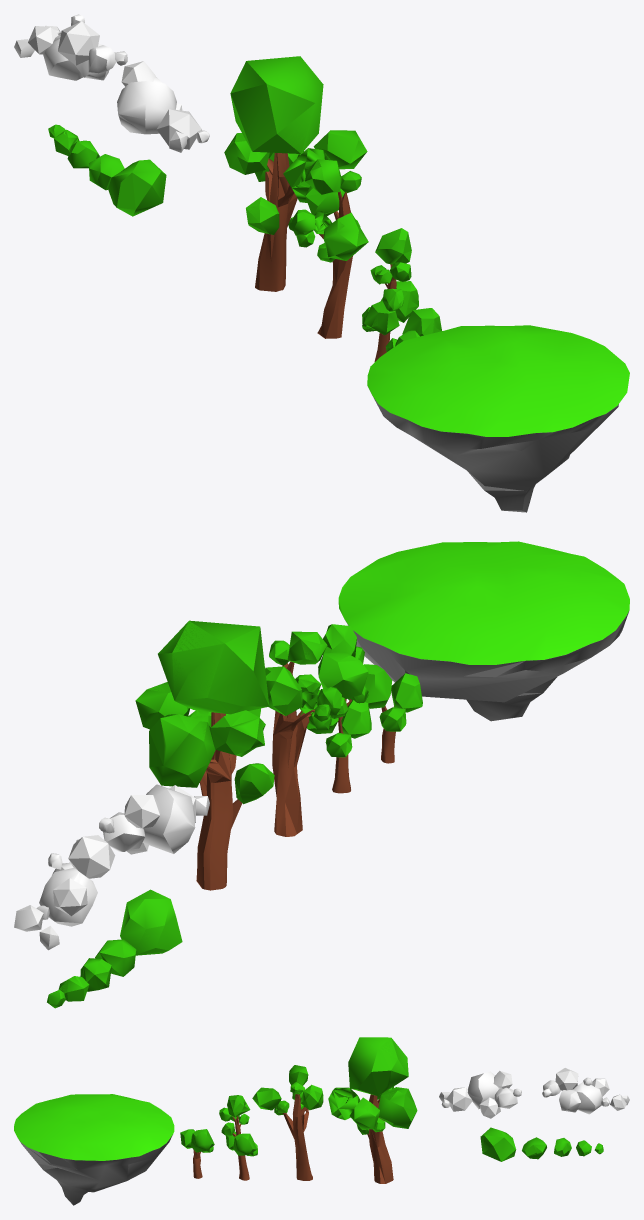
The model's file is PartsForSale.fbx.
The picture shows the model from 3 angles, top to bottom: view 1: azimuth 30°, elevation 25°; view 2: azimuth 150°, elevation 25°; view 3: azimuth 270°, elevation 25°; orthographic projection. The views are drawn at different scales.
Parts seen in each view (by area): view 1: Grass, Rock, Объект_Платоново_тело_1_6, Stem, Объект_Платоново_тело_1_5, Объект_Платоново_тело_1, stem, Объект_Платоново_тело_8_3, Объект_Платоново_тело_8_2, Объект_Платоново_тело_9_2, Объект_Платоново_тело_16, Объект_Платоново_тело_6_2 (+9 smaller); view 2: Grass, Объект_Платоново_тело_1_6, Rock, Stem, Объект_Платоново_тело_2_2, stem, Объект_Платоново_тело_1, Объект_Платоново_тело_1_5, Объект_Платоново_тело_16, Объект_Платоново_тело_8_3, Объект_Платоново_тело_1_3, Объект_Платоново_тело_9_2 (+14 smaller); view 3: Grass, Rock, Объект_Платоново_тело_1_6, Объект_Платоново_тело_2_2, stem, Stem, Объект_Платоново_тело_1, Объект_Платоново_тело_6_2, Объект_Платоново_тело_1_5, Объект_Платоново_тело_8_2, Объект_Платоново_тело_1_3, Объект_Платоново_тело_8_3 (+14 smaller).
Part boxes in pixels (<box>): Grass: <box>367,325,629,436</box>; Rock: <box>368,387,618,512</box>; Объект_Платоново_тело_1_6: <box>230,56,323,153</box>; Stem: <box>255,153,297,291</box>; Объект_Платоново_тело_1_5: <box>117,81,176,134</box>; Объект_Платоново_тело_1: <box>108,159,166,216</box>; stem: <box>317,191,352,338</box>; Объект_Платоново_тело_8_3: <box>323,212,368,260</box>; Объект_Платоново_тело_8_2: <box>313,130,367,169</box>; Объект_Платоново_тело_9_2: <box>58,21,99,65</box>; Объект_Платоново_тело_16: <box>224,133,269,174</box>; Объект_Платоново_тело_6_2: <box>283,148,330,202</box>; Grass: <box>338,541,629,664</box>; Объект_Платоново_тело_1_6: <box>158,620,269,714</box>; Rock: <box>345,610,629,721</box>; Stem: <box>196,712,242,890</box>; Объект_Платоново_тело_2_2: <box>149,714,215,787</box>; stem: <box>272,661,315,836</box>; Объект_Платоново_тело_1: <box>120,889,182,955</box>; Объект_Платоново_тело_1_5: <box>142,784,195,853</box>; Объект_Платоново_тело_16: <box>209,710,265,756</box>; Объект_Платоново_тело_8_3: <box>318,652,368,698</box>; Объект_Платоново_тело_1_3: <box>39,868,97,926</box>; Объект_Платоново_тело_9_2: <box>68,835,115,878</box>; Grass: <box>14,1094,174,1160</box>; Rock: <box>18,1135,172,1205</box>; Объект_Платоново_тело_1_6: <box>348,1037,408,1096</box>; Объект_Платоново_тело_2_2: <box>378,1087,417,1128</box>; stem: <box>276,1094,312,1180</box>; Stem: <box>367,1094,393,1183</box>; Объект_Платоново_тело_1: <box>480,1127,516,1161</box>; Объект_Платоново_тело_6_2: <box>328,1087,360,1119</box>; Объект_Платоново_тело_1_5: <box>467,1071,499,1109</box>; Объект_Платоново_тело_8_2: <box>349,1097,379,1129</box>; Объект_Платоново_тело_1_3: <box>573,1082,602,1114</box>; Объект_Платоново_тело_8_3: <box>252,1087,281,1110</box>.
Bounding box in the file's own units: 199 × 224 × 765.
